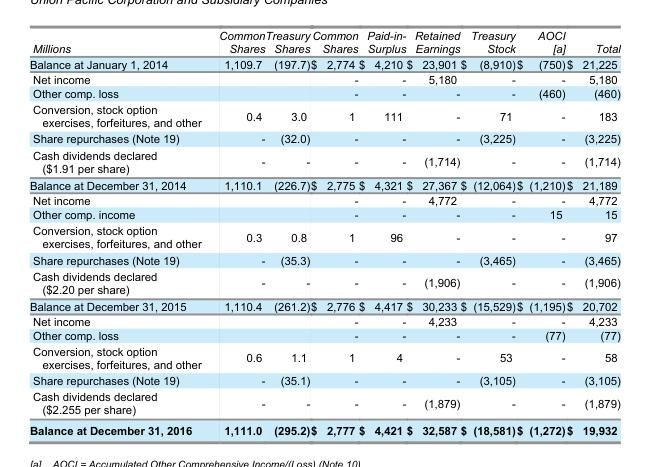table: (28, 29, 619, 436)
table column: (28, 29, 209, 436), (515, 29, 577, 436), (459, 29, 515, 436), (209, 29, 264, 436), (405, 29, 459, 436), (264, 29, 313, 436), (357, 29, 405, 436), (313, 29, 357, 436), (577, 29, 619, 436)
table column header: (28, 29, 619, 56)
table row: (28, 387, 619, 419), (28, 146, 619, 176), (28, 267, 619, 297), (28, 101, 619, 130), (28, 222, 619, 251), (28, 342, 619, 371), (28, 29, 619, 56), (28, 419, 619, 436), (28, 85, 619, 101), (28, 130, 619, 146), (28, 176, 619, 192), (28, 251, 619, 267), (28, 297, 619, 313), (28, 371, 619, 387), (28, 56, 619, 71), (28, 192, 619, 207), (28, 207, 619, 222), (28, 313, 619, 328), (28, 71, 619, 85), (28, 328, 619, 342)
